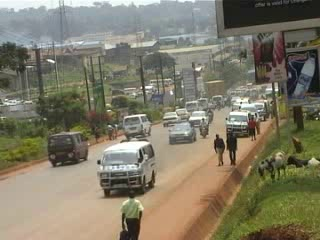Car: (168, 118, 199, 145), (160, 110, 184, 131), (186, 108, 208, 127), (175, 105, 189, 121)
Motorcycle: (198, 115, 209, 138), (204, 106, 214, 124)
